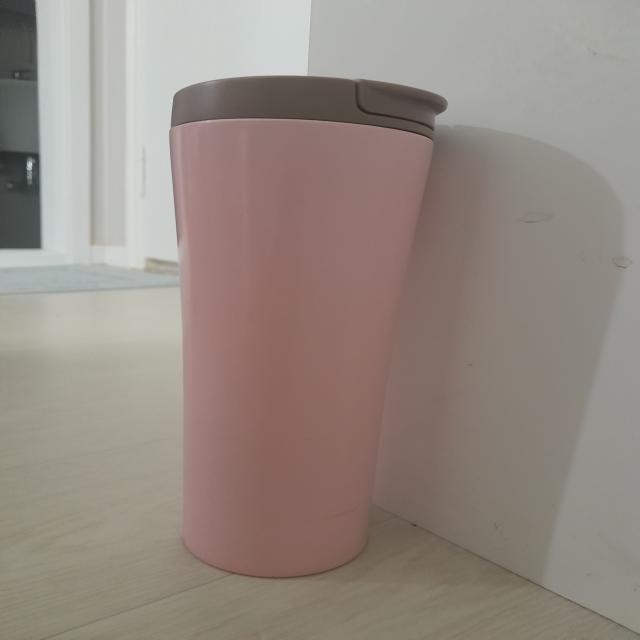waterbottle: (172, 75, 450, 577)
